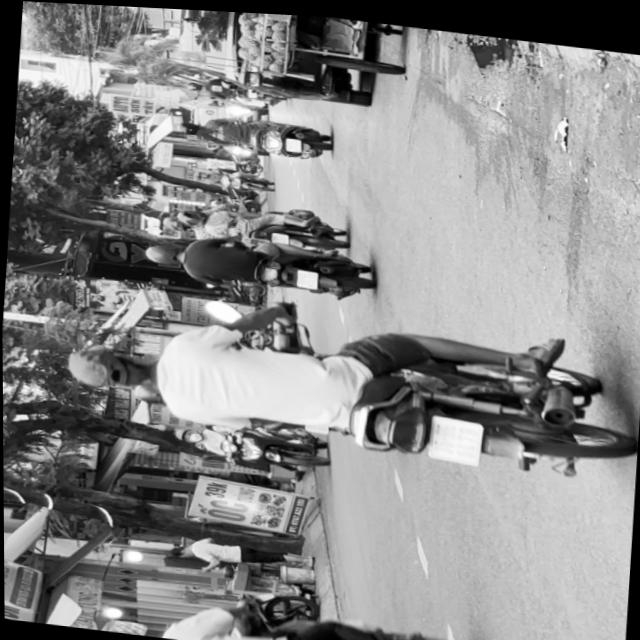helmet: (142, 240, 180, 266), (171, 426, 201, 443)
licenseplate: (57, 277, 640, 488), (139, 226, 375, 304), (167, 415, 331, 474)
motorcyclist: (63, 339, 154, 395)
nohelmet: (425, 412, 480, 461), (293, 267, 316, 286)
